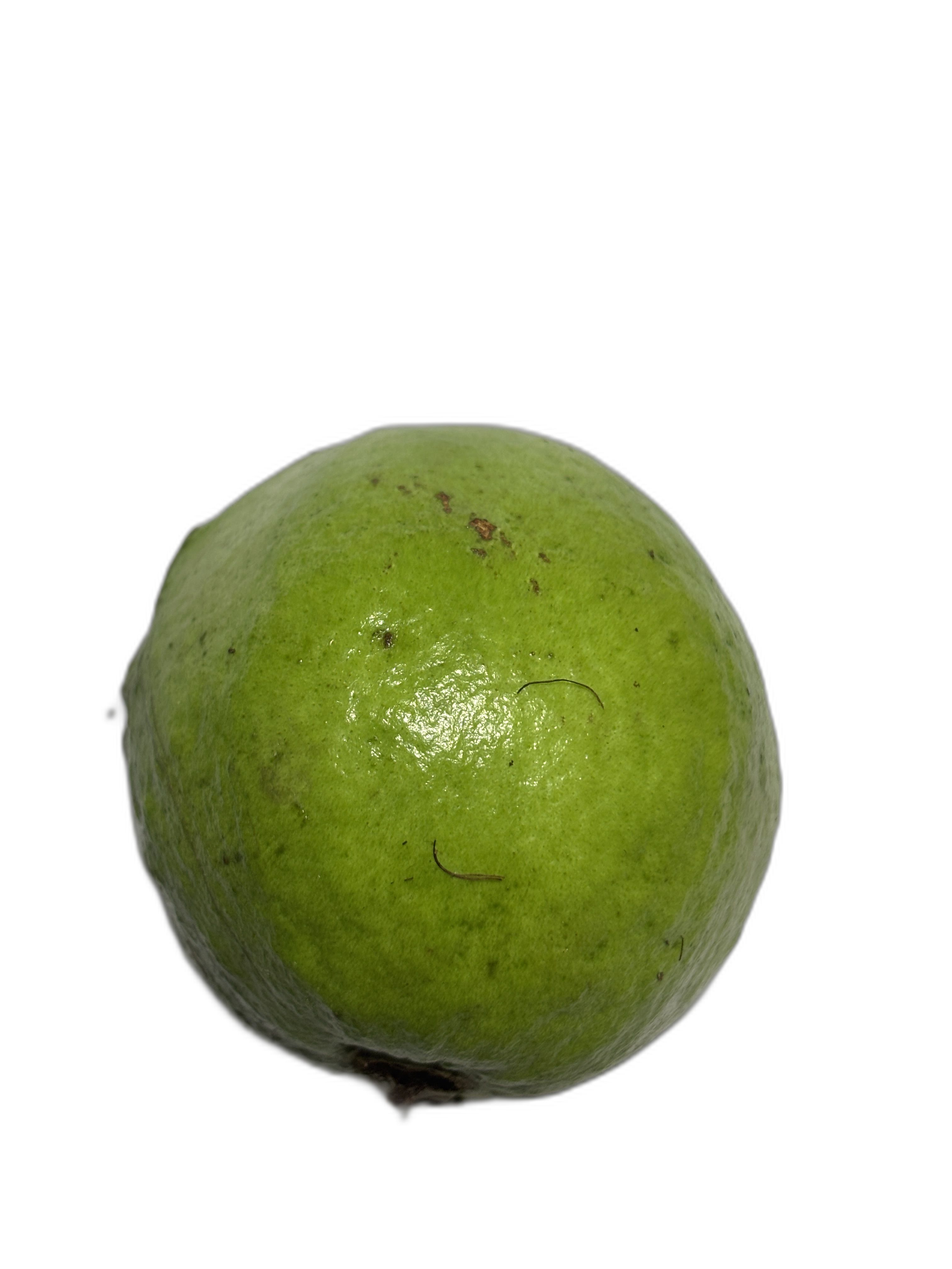guava: (81, 59, 855, 1093)
